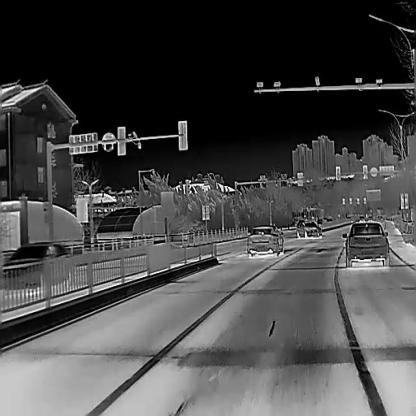car: (0, 240, 69, 288), (344, 222, 388, 267), (246, 224, 284, 257), (296, 219, 323, 238)
